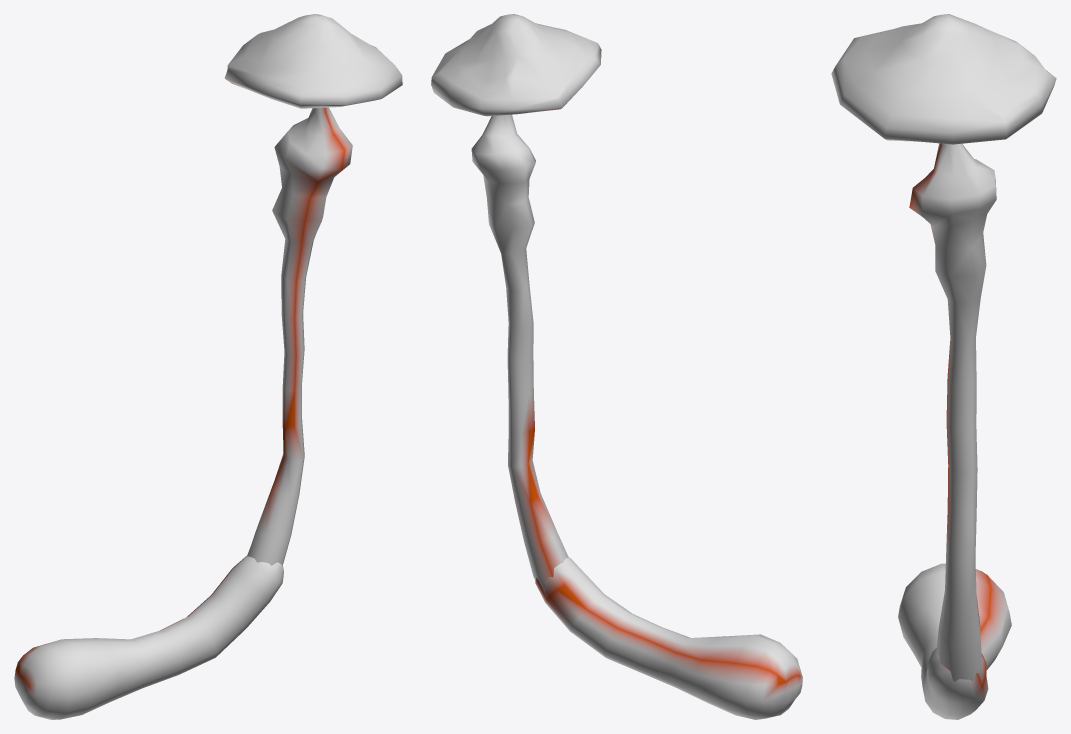
File: Mushroom_small_low.fbx
3 views of the same model, side by side, from view 1: azimuth 30°, elevation 25°; view 2: azimuth 150°, elevation 25°; view 3: azimuth 270°, elevation 25° (orthographic). The views are drawn at different scales.
Parts seen in each view (by area): view 1: Mushroom_small_low; view 2: Mushroom_small_low; view 3: Mushroom_small_low.
Part boxes in pixels (box(x1,y1,x2,y2)): Mushroom_small_low: box(14, 14, 402, 719); Mushroom_small_low: box(431, 14, 802, 719); Mushroom_small_low: box(831, 14, 1056, 719).
Bounding box in the file's own units: 0.3165 × 0.5408 × 0.1397.
